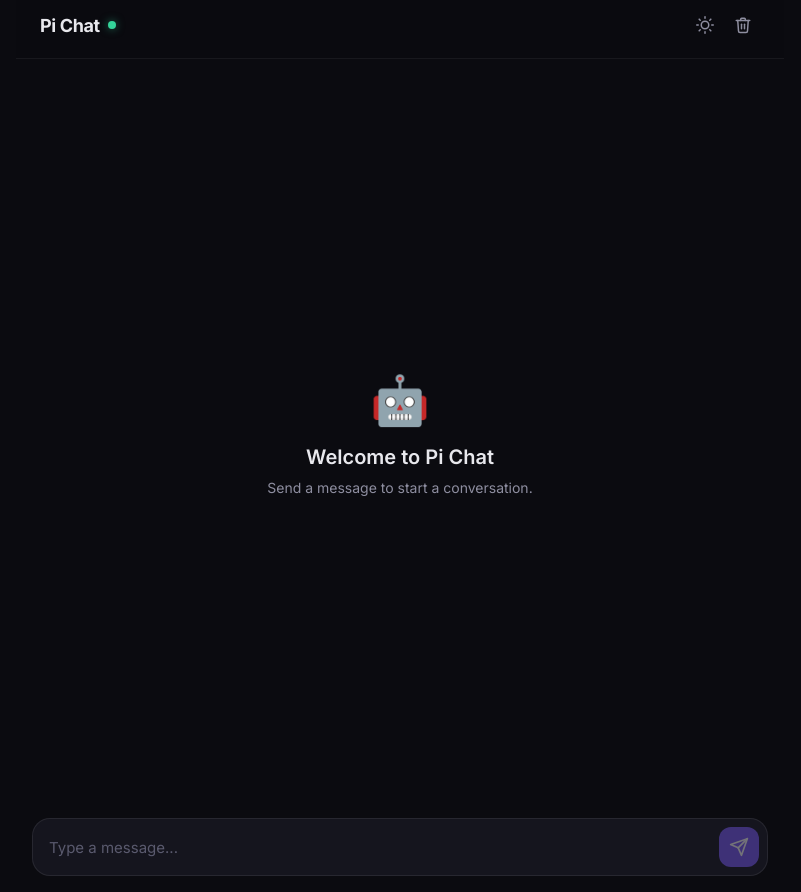
Test: ChatApp › persists session_id to localStorage after successful send
In the text box named "Message input": (376, 848) left=41, top=828, right=711, bottom=867, type "Hello"
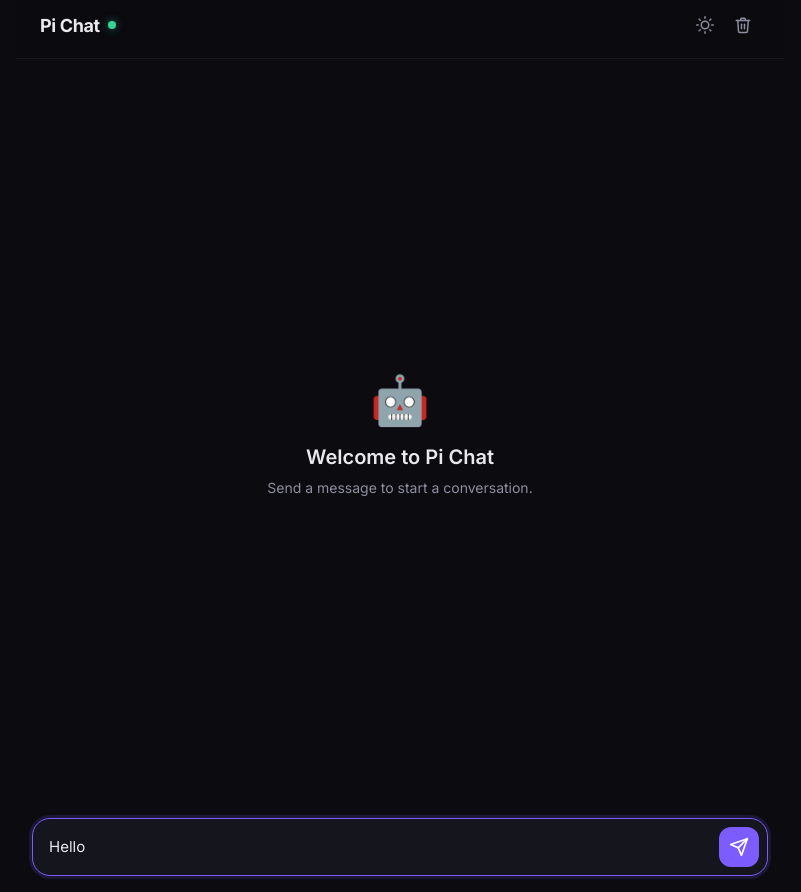
Click the button named "Send message": (739, 847) left=719, top=827, right=759, bottom=867
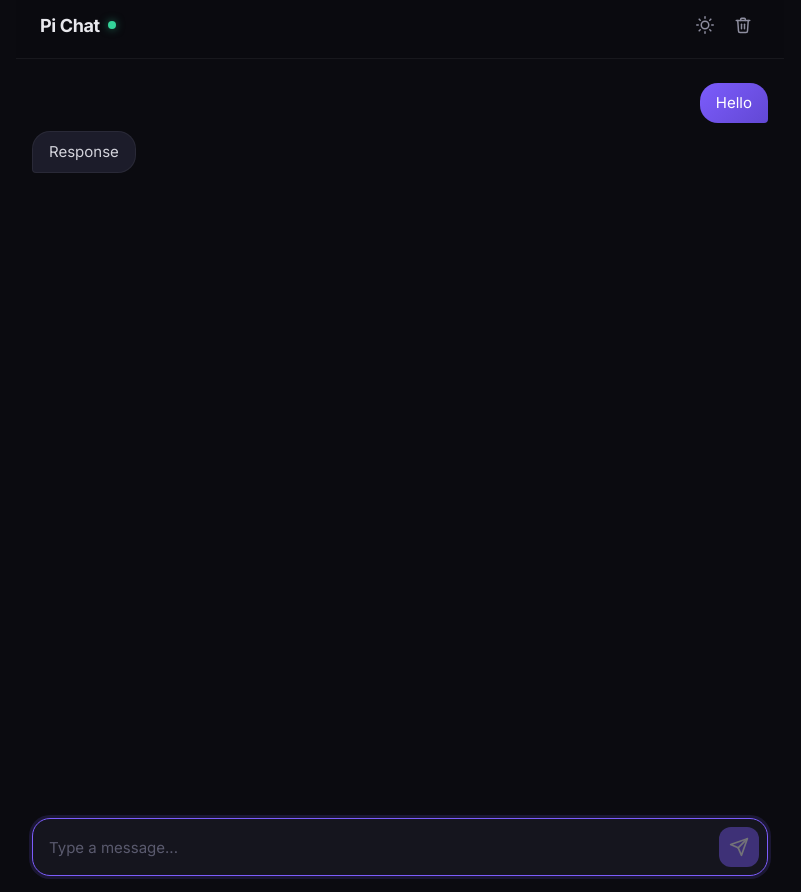
Expected: the text "Response" is shown, left=49, top=140, right=119, bottom=164
